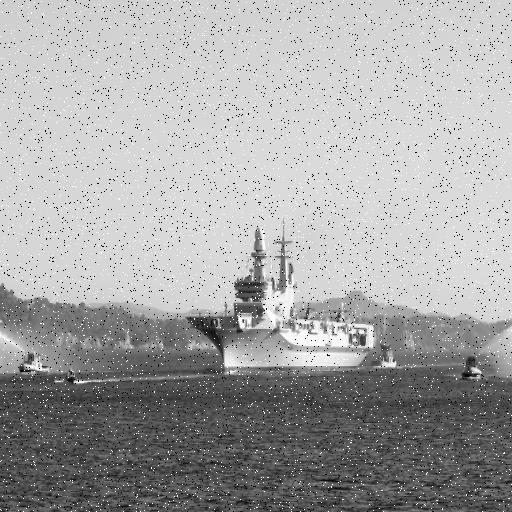Portanaves: (183, 205, 380, 378), (186, 211, 377, 378)
